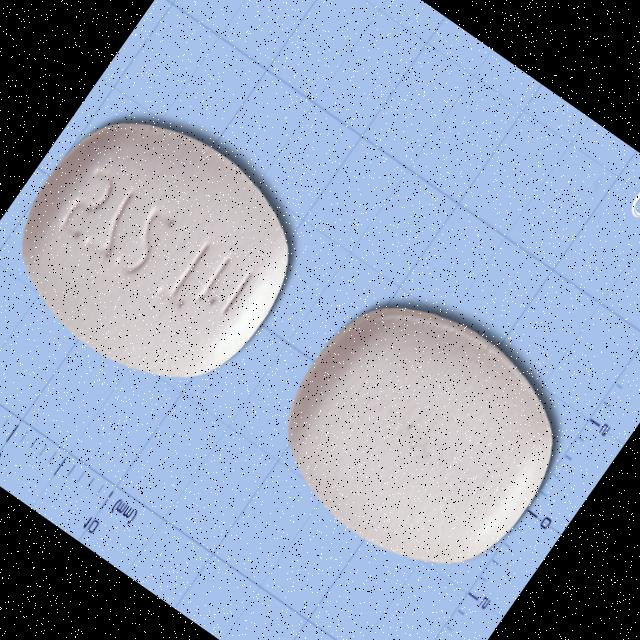Triumeq Tab: (247, 266, 592, 606), (0, 82, 327, 420)
